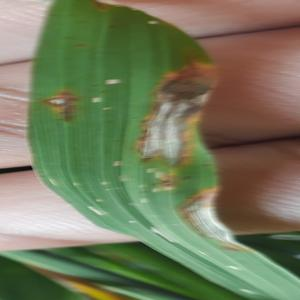1 RiceBlast: (134, 58, 216, 185), (170, 174, 249, 258), (32, 81, 76, 119)
